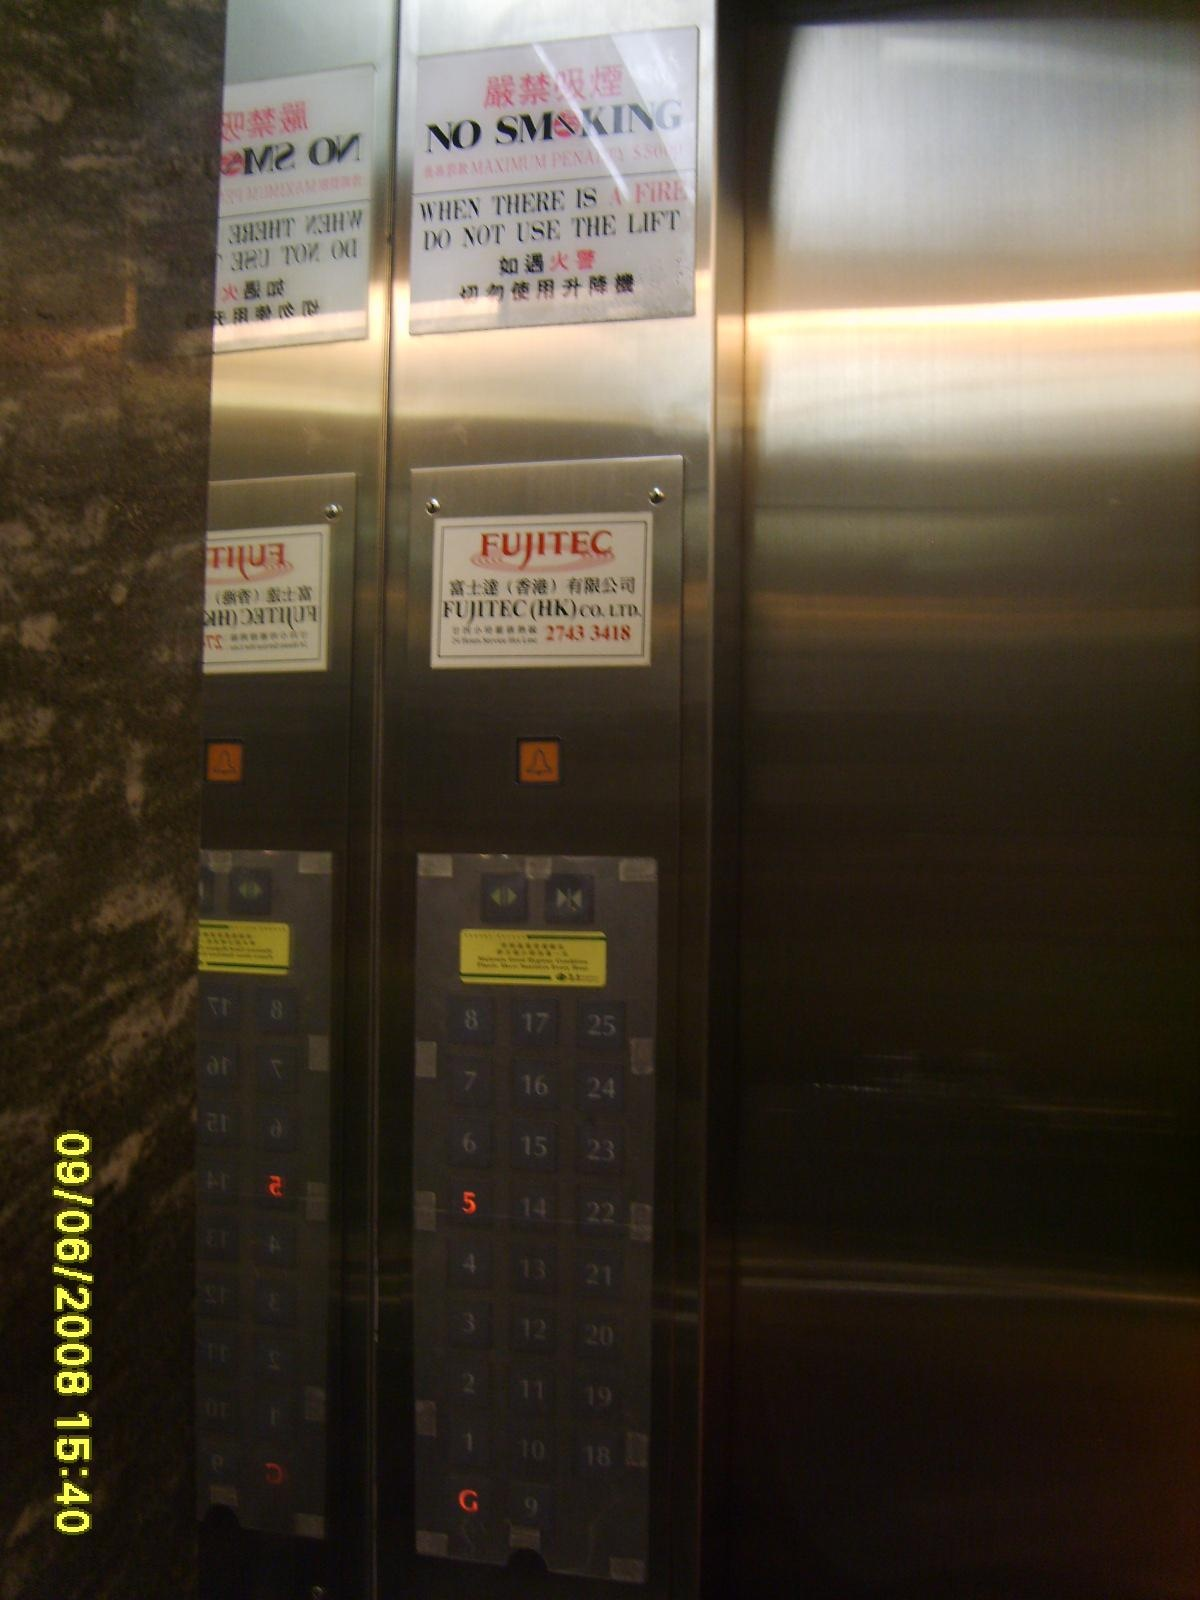1: (444, 1424, 495, 1466)
10: (505, 1425, 557, 1475)
11: (505, 1364, 560, 1419)
12: (507, 1305, 560, 1356)
13: (507, 1242, 561, 1298)
14: (508, 1178, 560, 1232)
15: (507, 1119, 563, 1174)
16: (511, 1060, 562, 1112)
17: (508, 998, 560, 1052)
18: (574, 1432, 626, 1489)
19: (574, 1369, 626, 1426)
2: (444, 1364, 497, 1414)
20: (574, 1306, 626, 1363)
21: (574, 1245, 626, 1301)
22: (574, 1183, 626, 1240)
23: (574, 1125, 626, 1175)
24: (574, 1061, 628, 1114)
25: (574, 998, 629, 1054)
3: (444, 1301, 495, 1347)
4: (442, 1238, 495, 1293)
5: (442, 1180, 495, 1227)
6: (444, 1115, 495, 1168)
7: (445, 1054, 495, 1109)
8: (444, 994, 499, 1048)
9: (503, 1477, 556, 1529)
G: (445, 1475, 497, 1523)
alarm: (516, 736, 561, 785)
close: (545, 872, 595, 925)
open: (478, 871, 531, 925)
